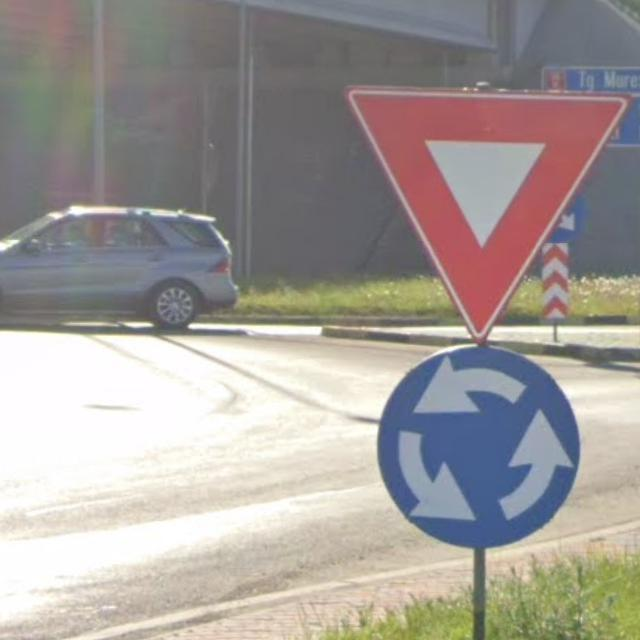prio_give_way: (345, 83, 630, 339)
